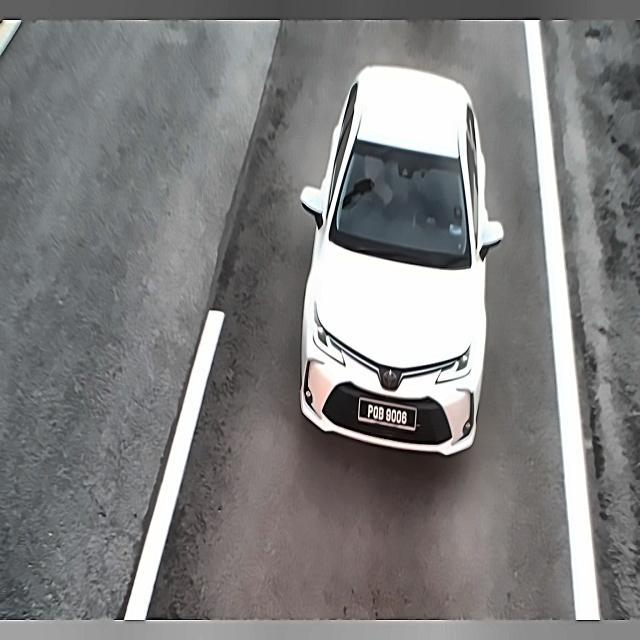car: (356, 392, 425, 438)
